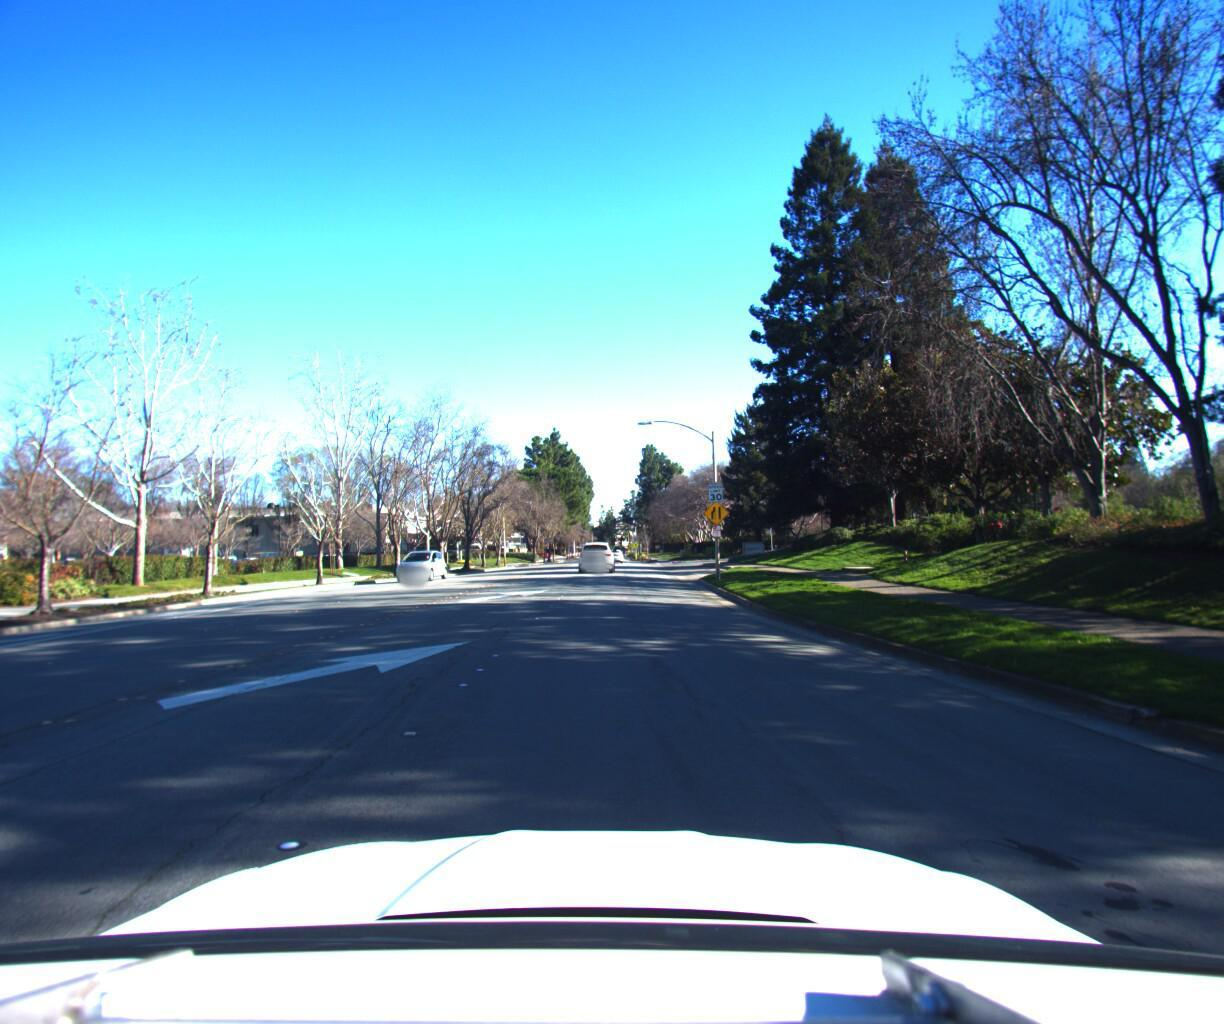car: (390, 544, 451, 576), (576, 533, 614, 567), (606, 540, 623, 555)
